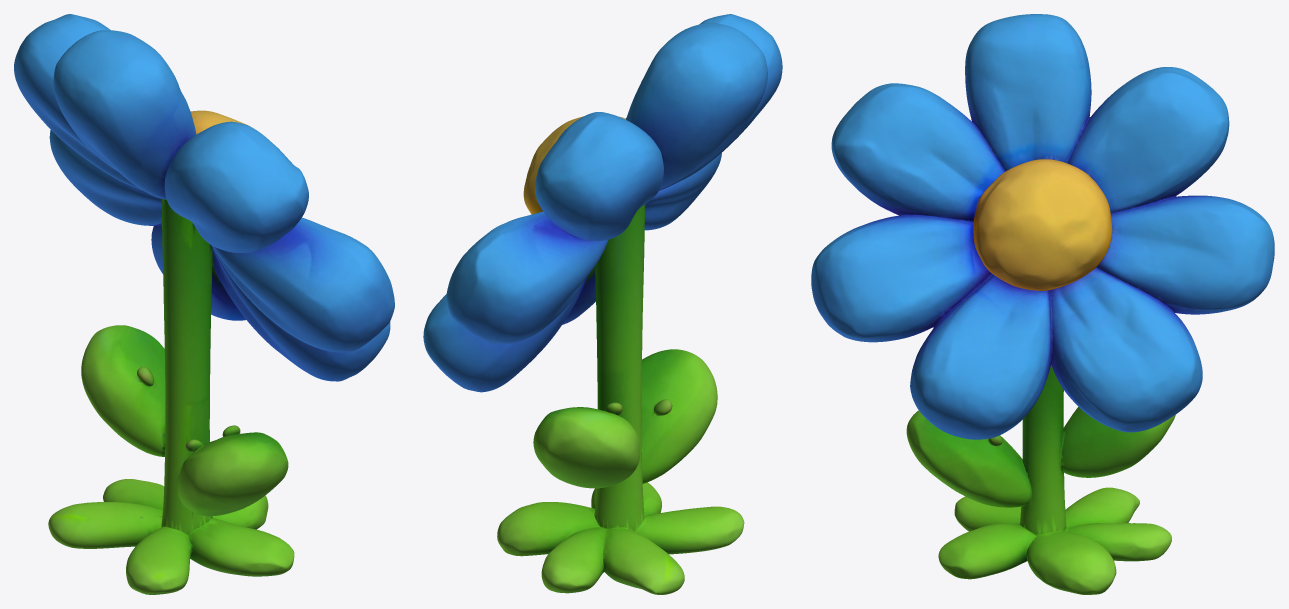
File: blue.glb
The picture shows the model from 3 angles, left to right: view 1: azimuth 30°, elevation 25°; view 2: azimuth 150°, elevation 25°; view 3: azimuth 270°, elevation 25°; orthographic projection. The views are drawn at different scales.
Visible parts, largest first — view 1: tripo_node_8c5386ca-67d0-410b-b5a5-36ef799c3848; view 2: tripo_node_8c5386ca-67d0-410b-b5a5-36ef799c3848; view 3: tripo_node_8c5386ca-67d0-410b-b5a5-36ef799c3848.
Part boxes in pixels (left/top/right/bottom): tripo_node_8c5386ca-67d0-410b-b5a5-36ef799c3848: left=14, top=14, right=394, bottom=594; tripo_node_8c5386ca-67d0-410b-b5a5-36ef799c3848: left=423, top=14, right=782, bottom=594; tripo_node_8c5386ca-67d0-410b-b5a5-36ef799c3848: left=811, top=14, right=1274, bottom=594.
Bounding box in the file's own units: 0.5519 × 1 × 0.8375.
1 material, 1 textured.
